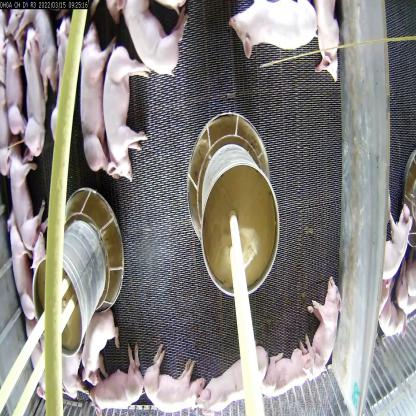Pig: (101, 44, 151, 175), (116, 0, 197, 78), (0, 142, 57, 245), (225, 0, 317, 62), (311, 267, 357, 373), (80, 21, 111, 177), (46, 10, 82, 136), (200, 348, 264, 410), (139, 349, 199, 413), (19, 24, 48, 155), (75, 297, 117, 387), (90, 344, 140, 415), (308, 0, 353, 78), (378, 207, 416, 293), (6, 206, 33, 313), (26, 319, 55, 411), (265, 353, 319, 389), (52, 339, 80, 392)
